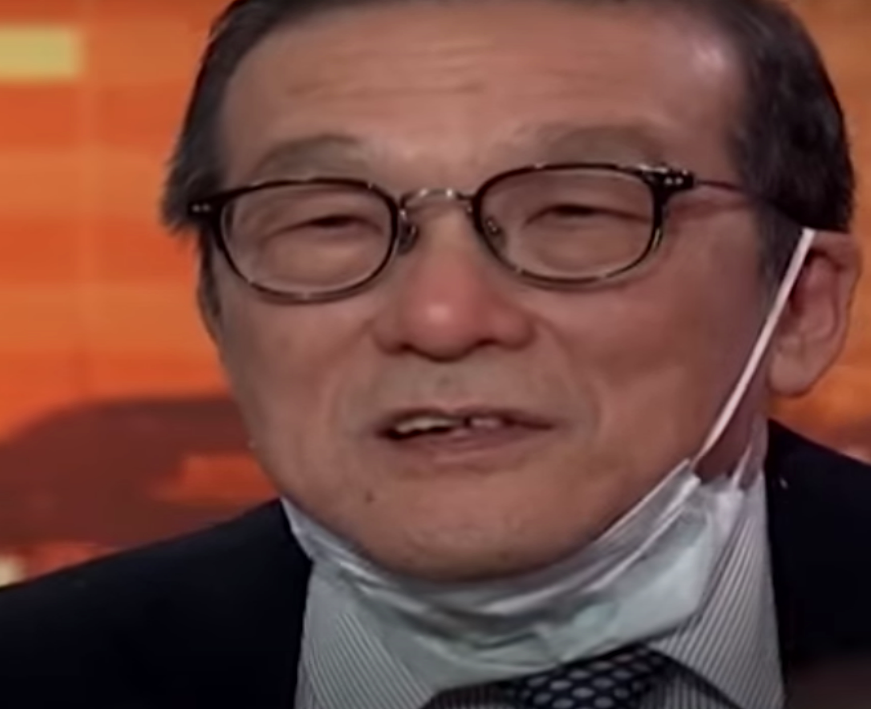mask_weared_incorrect: (165, 6, 871, 695)
